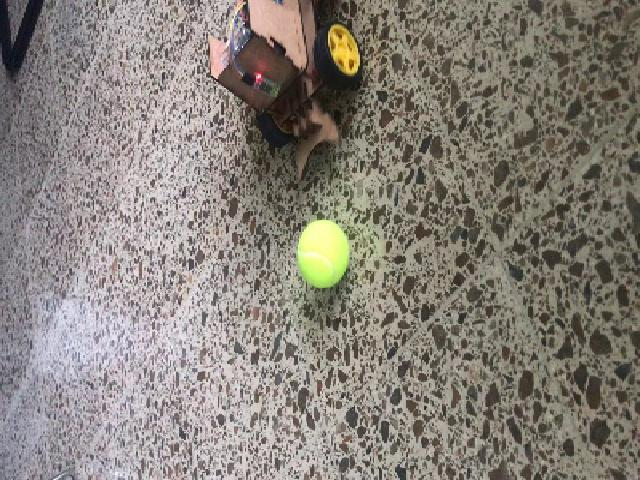Ball: (296, 220, 349, 288)
Robot: (205, 2, 362, 178)
